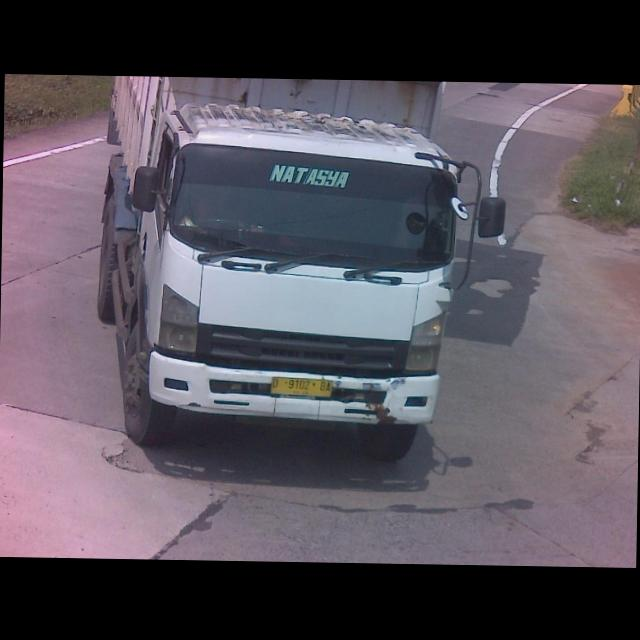plate: (268, 371, 332, 397)
